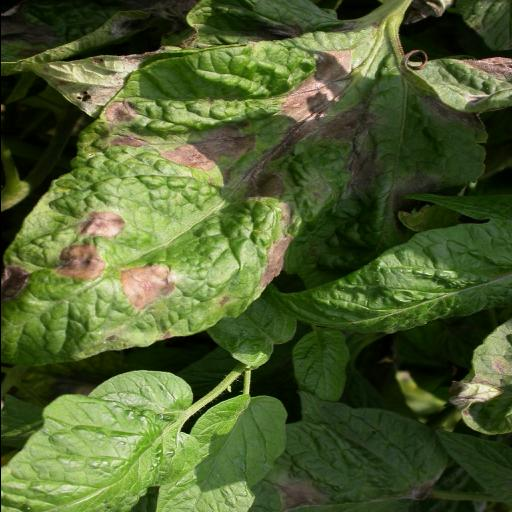Late Blight: (10, 10, 412, 363), (246, 400, 458, 512)
